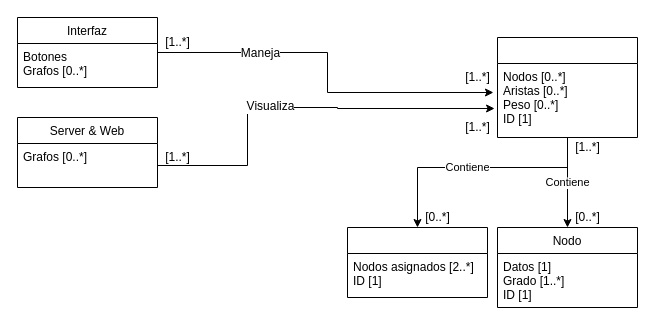
The diagram is 655 pixels wide and 328 high, and some of its shapes have lost their labels. The box of each missing label's shape, as (x1, y1, x2, y2) in pixels:
Aristas: (346, 226, 488, 298)
Grafo: (496, 36, 638, 138)
